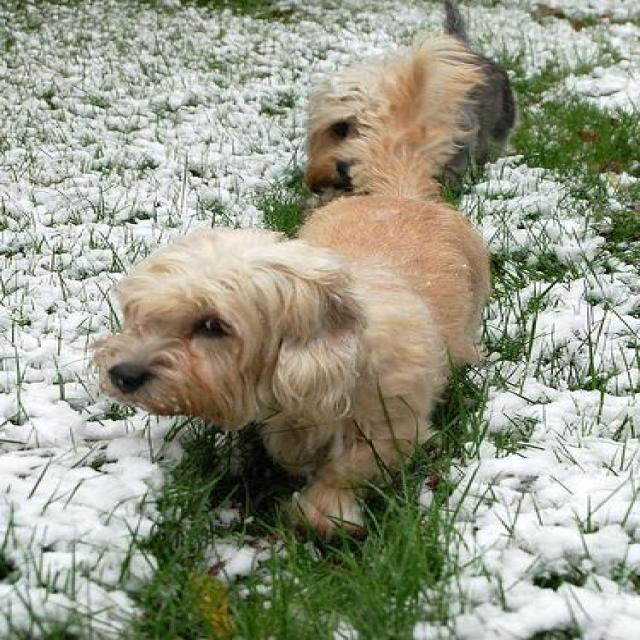dandie_dinmont: (97, 33, 495, 534)
